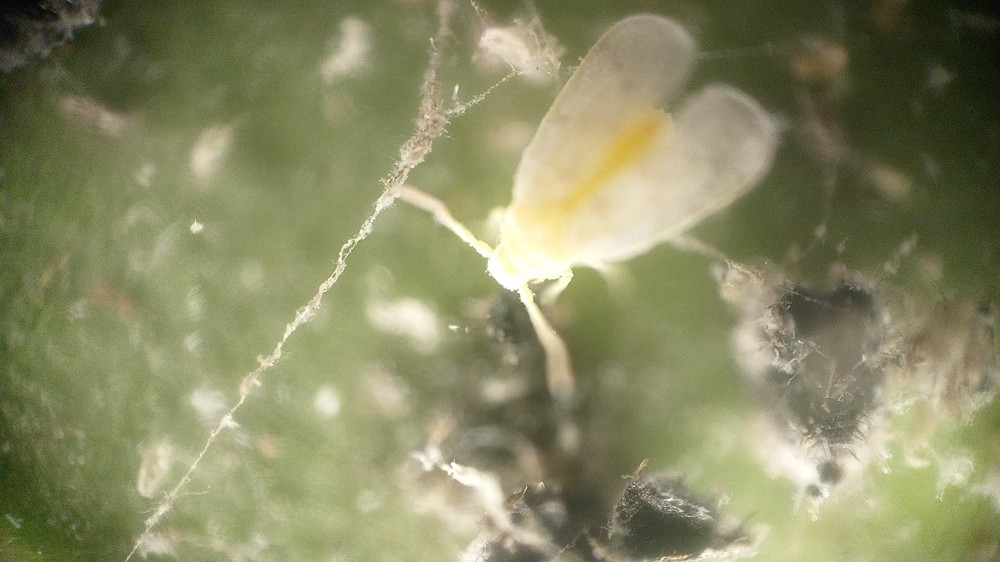Mosca Blanca: (393, 13, 799, 409)
